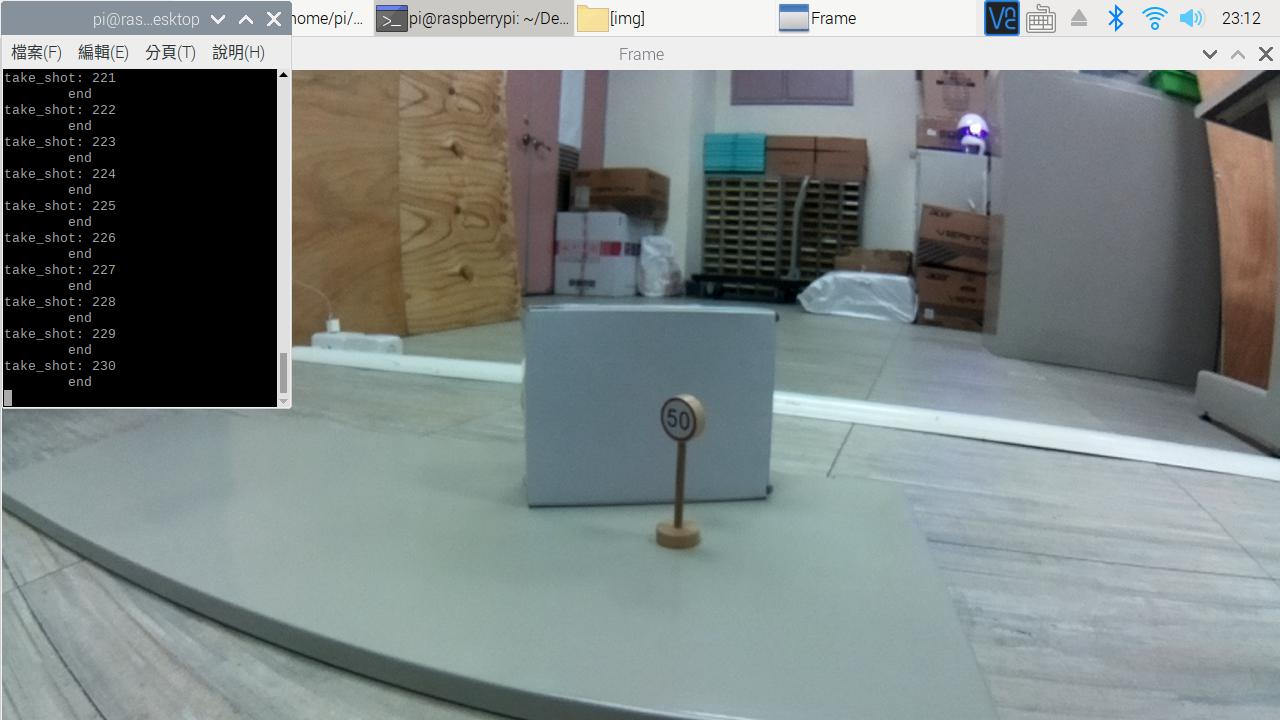Speed50: (652, 386, 720, 468)
